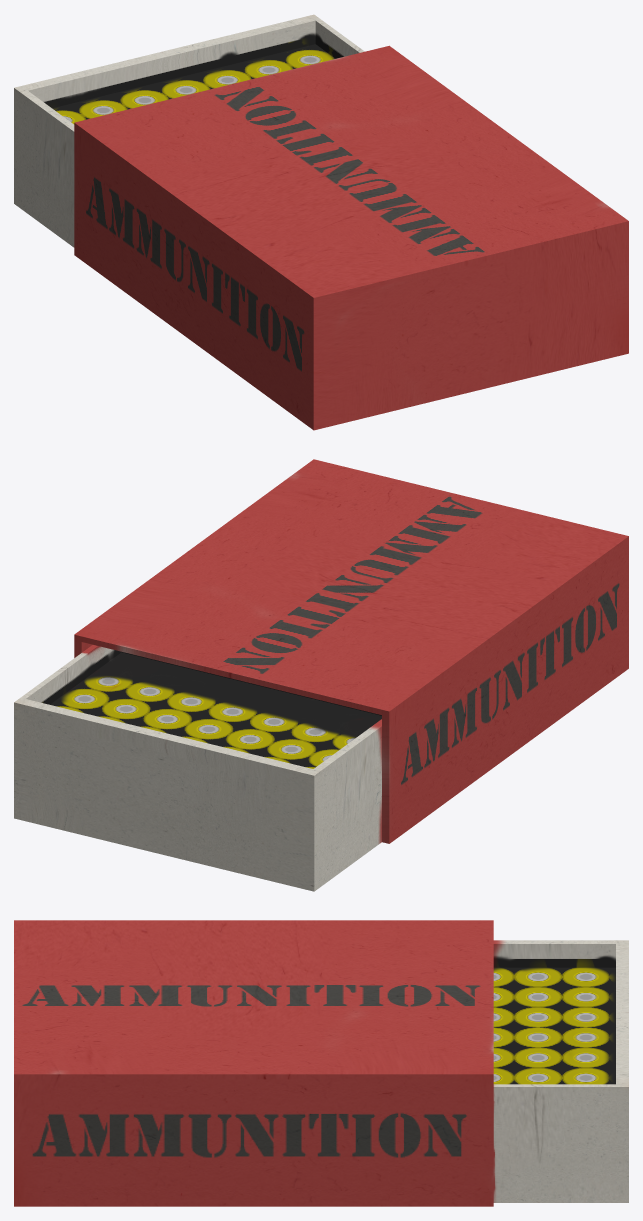
File: ammoBox 1.fbx
3 renders of one model, top to bottom at view 1: azimuth 30°, elevation 25°; view 2: azimuth 150°, elevation 25°; view 3: azimuth 270°, elevation 25°, orthographic.
Visible parts, largest first — view 1: pCube1; view 2: pCube1; view 3: pCube1.
Boxes of the visible parts, bbox=[...] form: pCube1: bbox=[14, 14, 628, 430]; pCube1: bbox=[14, 459, 628, 891]; pCube1: bbox=[14, 920, 628, 1206].
Size of the model in its own units: 9.37 by 3.77 by 15.83.
Materials: 1 (1 with a texture image).
